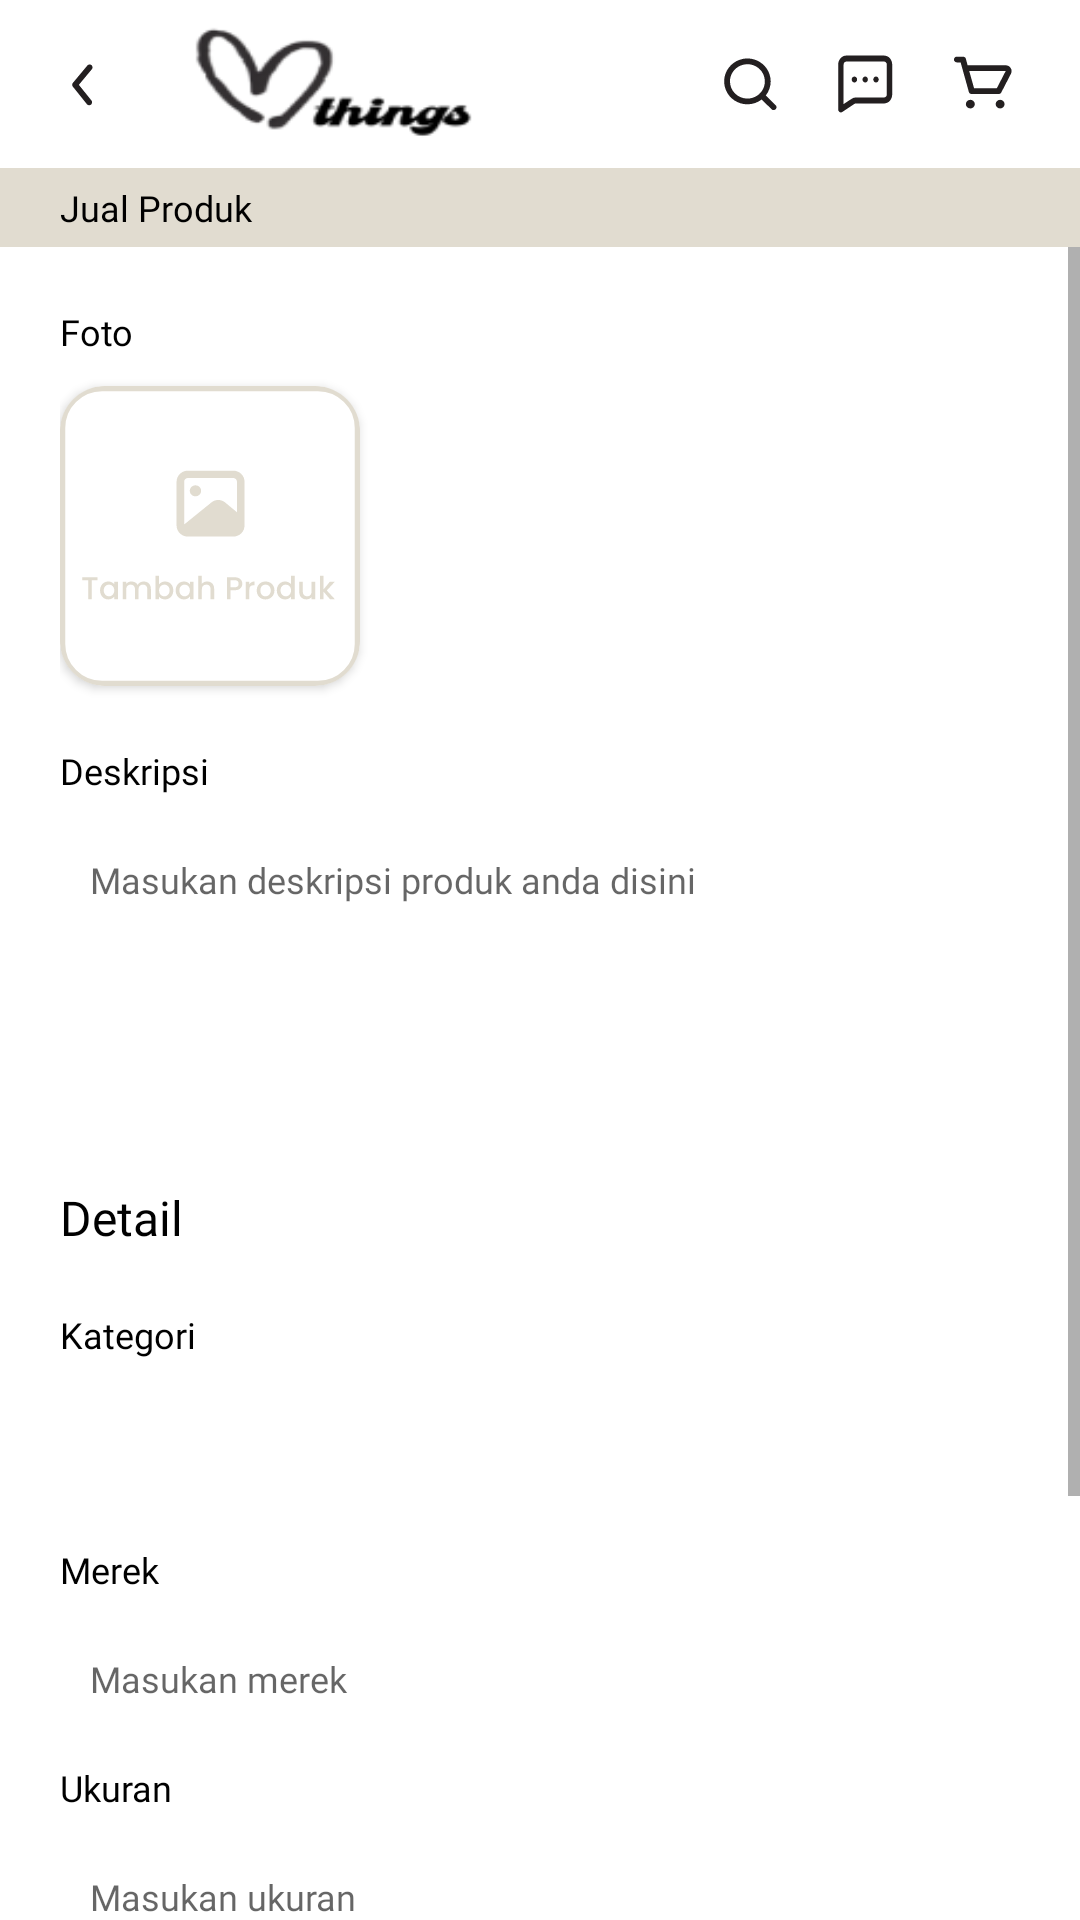

Point at icon controls on the screen. Image size 1080px x 1920px, points as (x=x, y=y).
chat: (x=865, y=84)
keranjang: (x=983, y=82)
row left: (x=82, y=85)
search: (x=750, y=84)
